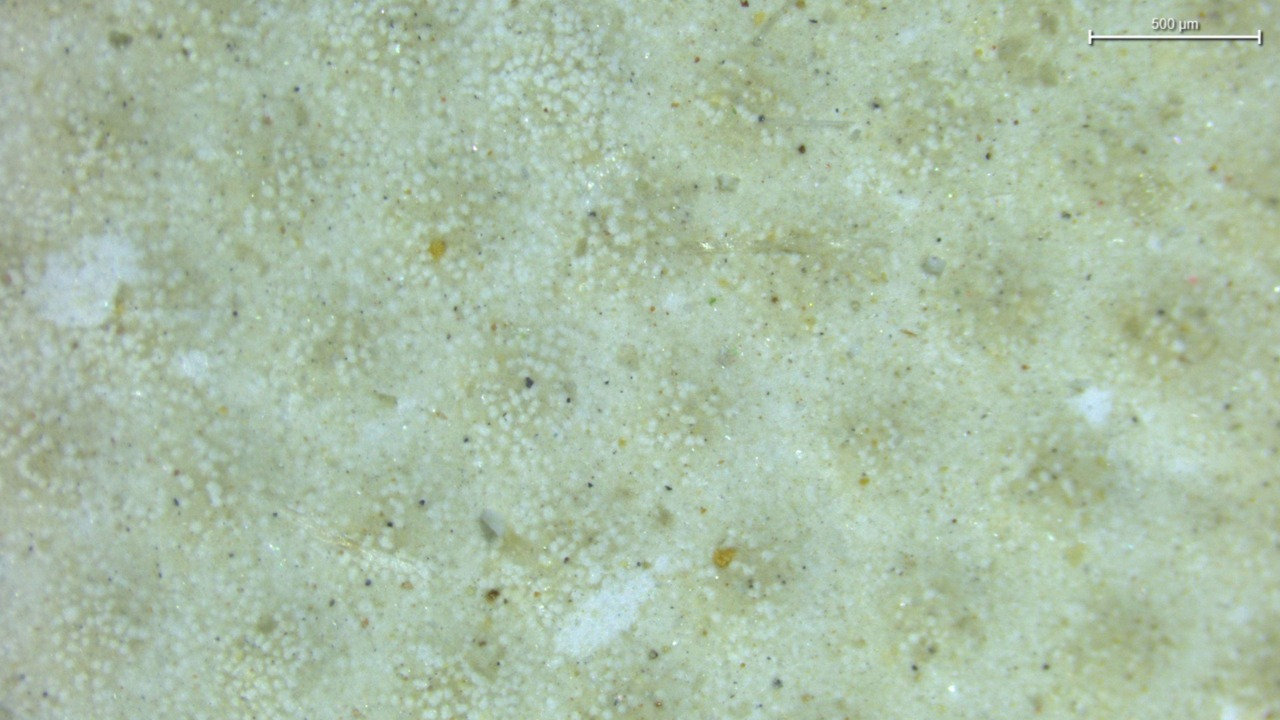microplastic_fragment: (477, 509, 505, 541)
